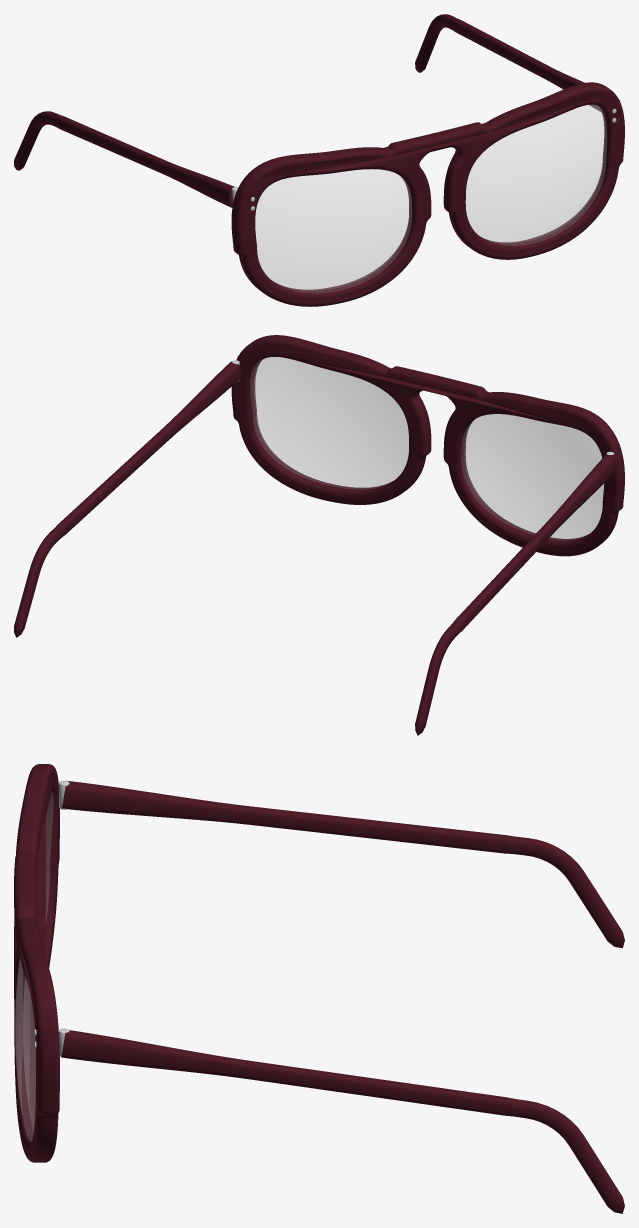
The model's file is iris-l.glb.
The picture shows the model from 3 angles, top to bottom: view 1: azimuth 30°, elevation 25°; view 2: azimuth 150°, elevation 25°; view 3: azimuth 270°, elevation 25°; orthographic projection. The views are drawn at different scales.
Parts seen in each view (by area): view 1: Front, Lens_R, Lens_L, Temple_R, Temple_L; view 2: Front, Lens_L, Lens_R, Temple_L, Temple_R; view 3: Front, Temple_L, Temple_R, Lens_L.
Boxes of the visible parts, bbox=[...] form: Front: bbox=[231, 82, 624, 306]; Lens_R: bbox=[255, 169, 411, 292]; Lens_L: bbox=[466, 105, 606, 245]; Temple_R: bbox=[14, 111, 234, 207]; Temple_L: bbox=[415, 14, 601, 112]; Front: bbox=[231, 335, 624, 556]; Lens_L: bbox=[250, 357, 408, 489]; Lens_R: bbox=[461, 414, 603, 540]; Temple_L: bbox=[14, 361, 240, 637]; Temple_R: bbox=[415, 454, 617, 735]; Front: bbox=[14, 764, 69, 1162]; Temple_L: bbox=[61, 1030, 624, 1213]; Temple_R: bbox=[62, 780, 624, 948]; Lens_L: bbox=[15, 959, 35, 1141].
Bounding box in the file's own units: 0.1493 × 0.0544 × 0.1423.
